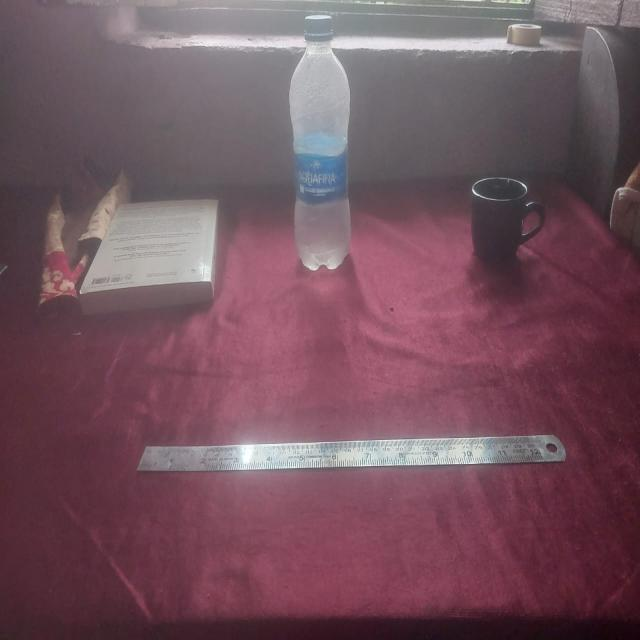Book: (78, 190, 223, 304)
Bottle: (282, 7, 357, 272)
Cup: (454, 178, 552, 270)
scale: (129, 429, 573, 475)
